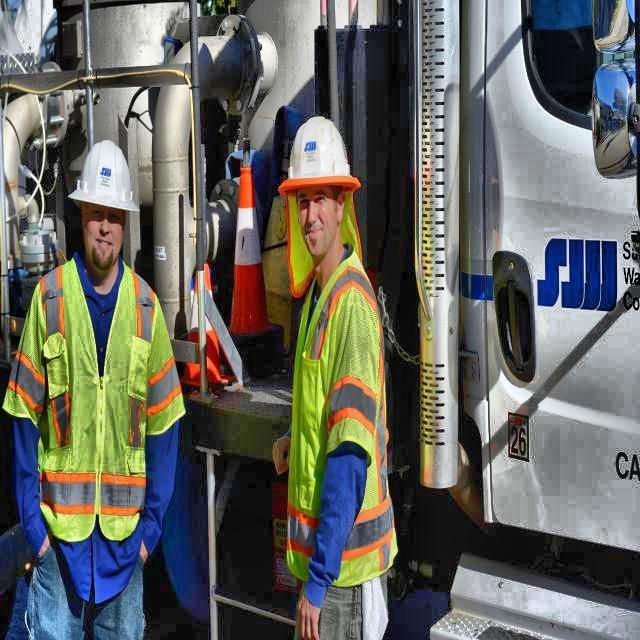person: (0, 132, 191, 640), (274, 109, 399, 640)
